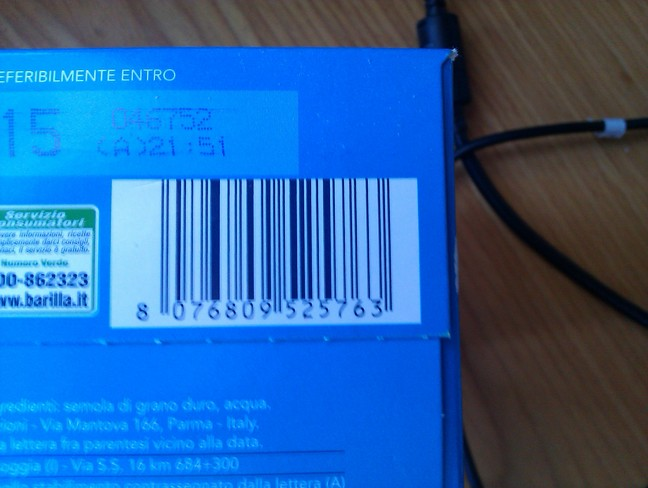detection: (112, 180, 418, 325)
